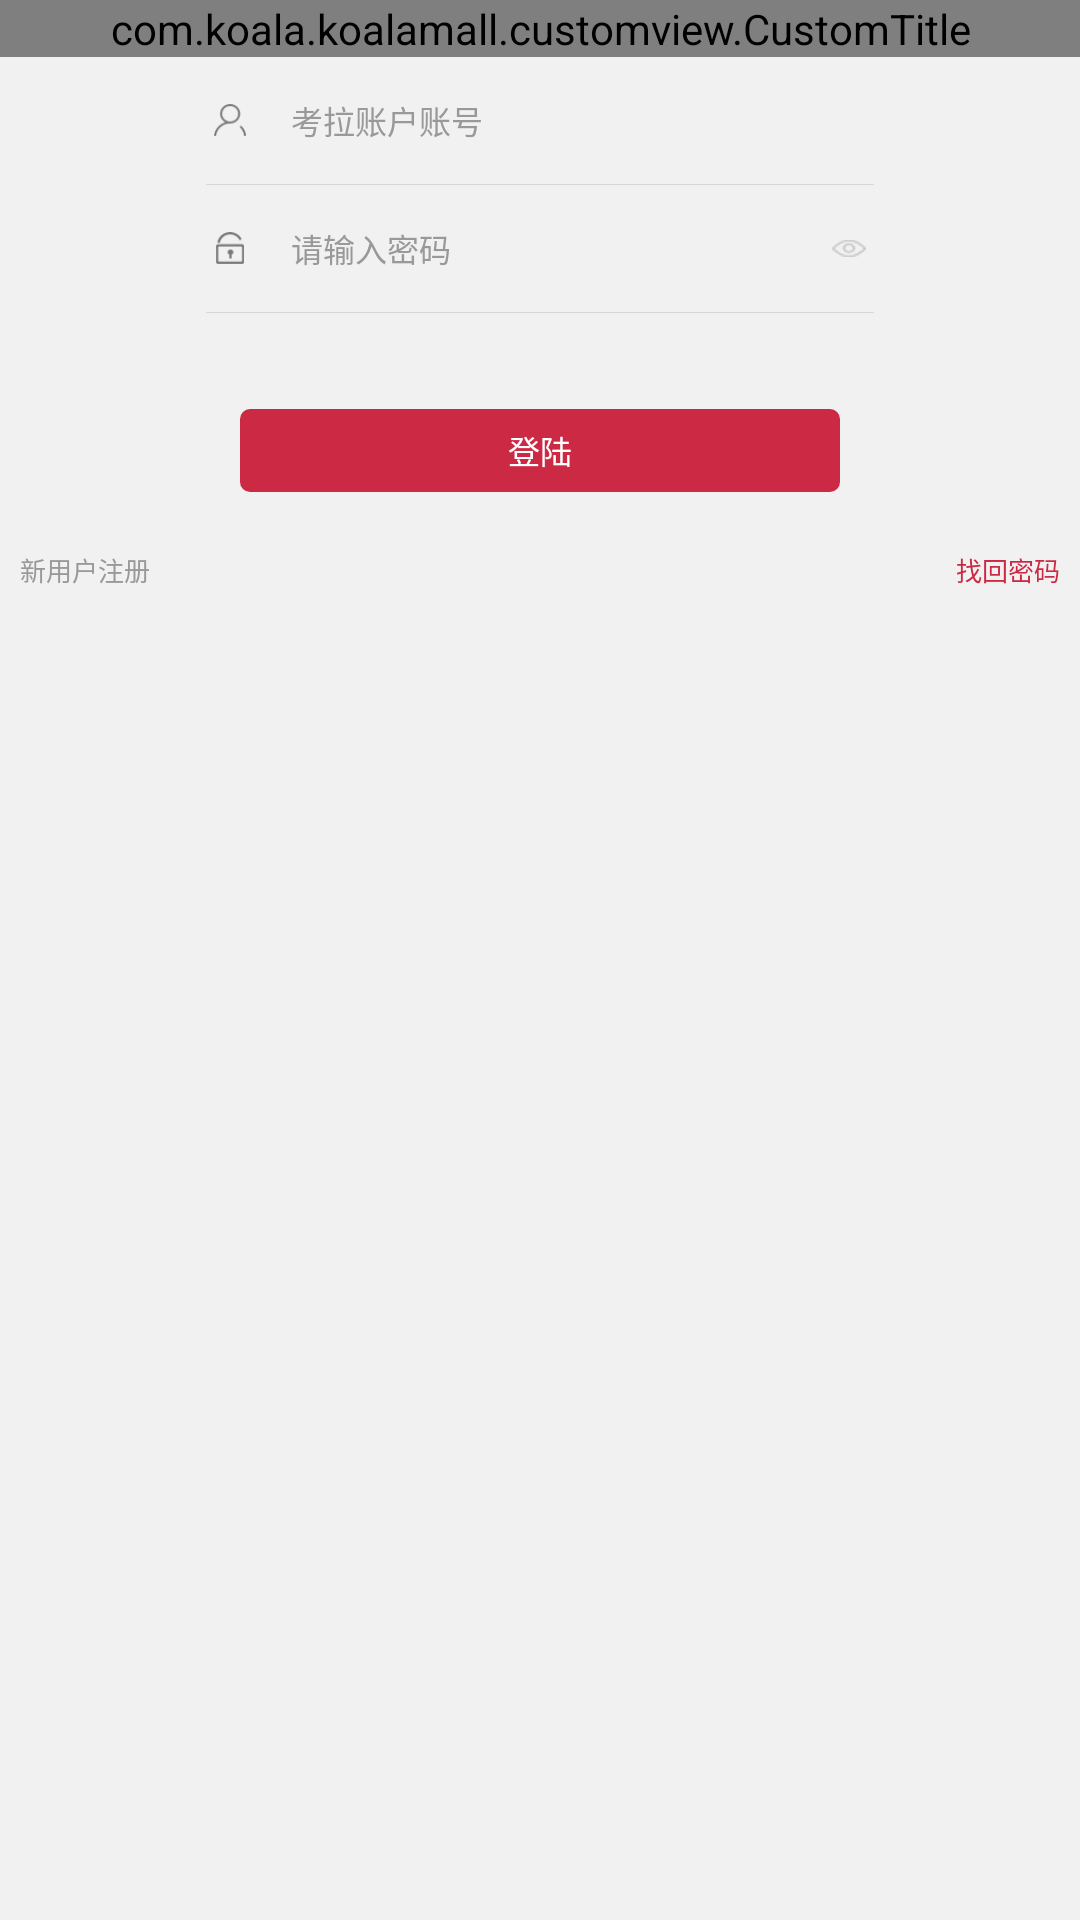

Where icons sit on this 1080x1920 app screen, as [left=x1, top=y1, right=x2, bottom=y2]:
login look: [left=832, top=240, right=866, bottom=257]
login pwd: [left=216, top=232, right=244, bottom=264]
login user: [left=214, top=104, right=246, bottom=136]
